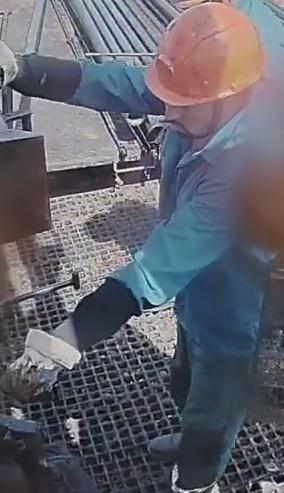gloves: (3, 311, 92, 408), (0, 46, 62, 104)
helmet: (142, 1, 264, 107)
vest: (156, 109, 272, 358)
